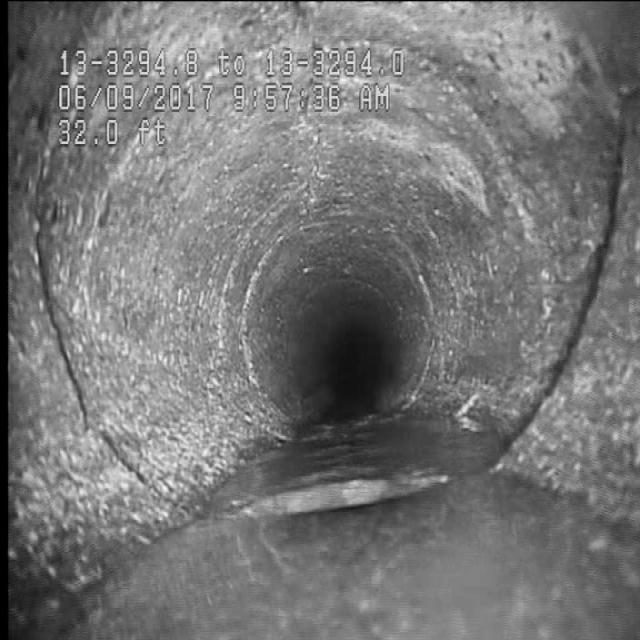Crack: (17, 204, 115, 434)
